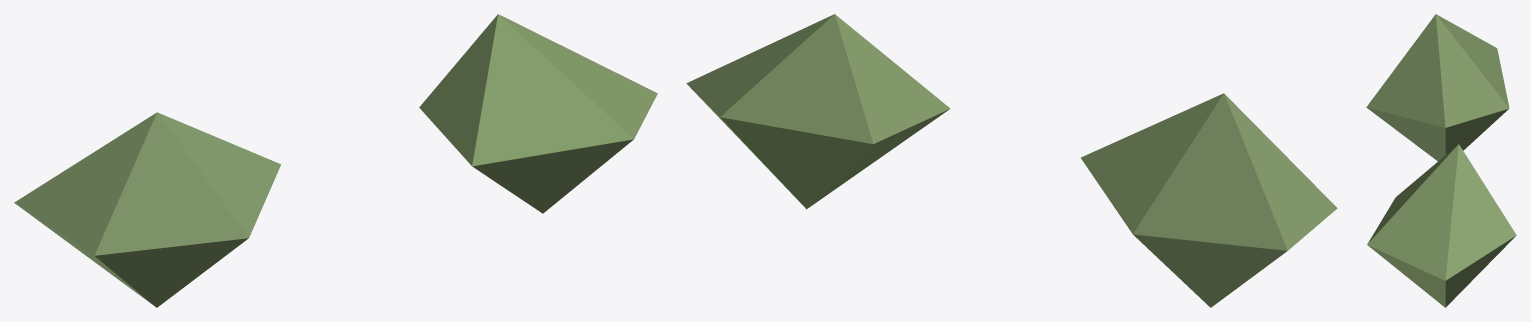
3 views of the same model, side by side, from view 1: azimuth 30°, elevation 25°; view 2: azimuth 150°, elevation 25°; view 3: azimuth 270°, elevation 25° (orthographic). The views are drawn at different scales.
Size of the model in its own units: 4.74 by 1.5 by 1.36.
